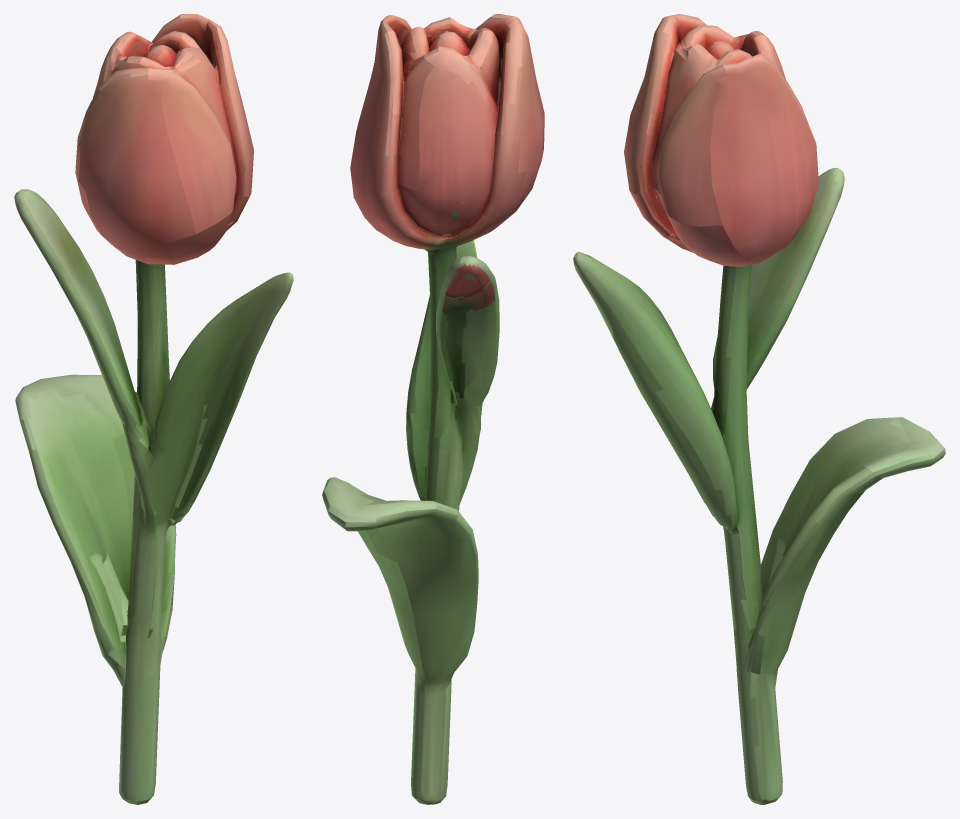
Rendered from kagit-lale.glb.
3 renders of one model, left to right at view 1: azimuth 30°, elevation 25°; view 2: azimuth 150°, elevation 25°; view 3: azimuth 270°, elevation 25°, orthographic. The views are drawn at different scales.
Visible parts, largest first — view 1: Mesh0; view 2: Mesh0; view 3: Mesh0.
Part boxes in pixels (x1=…): Mesh0: x1=14, y1=14, x2=293, y2=804; Mesh0: x1=322, y1=14, x2=544, y2=804; Mesh0: x1=573, y1=14, x2=945, y2=804.
Size of the model in its own units: 0.4701 by 1.99 by 0.8752.
Materials: 1 (1 with a texture image).
